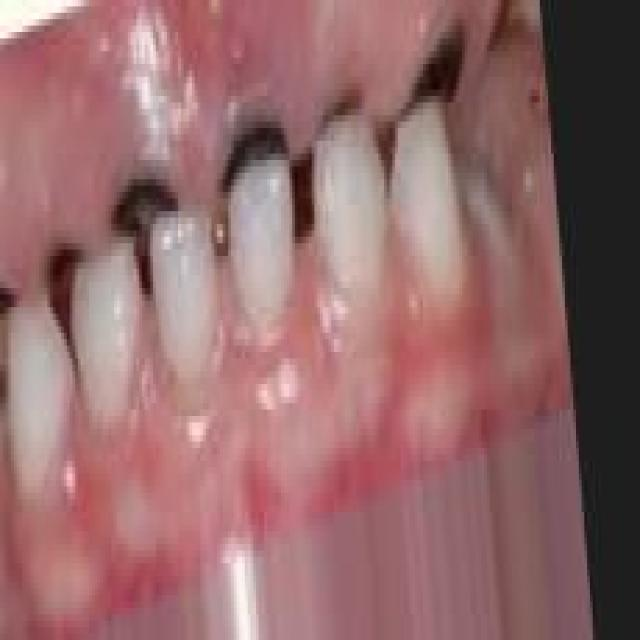caries: (105, 129, 198, 295), (204, 86, 306, 222), (387, 0, 472, 132), (304, 57, 374, 172), (38, 211, 96, 319)
